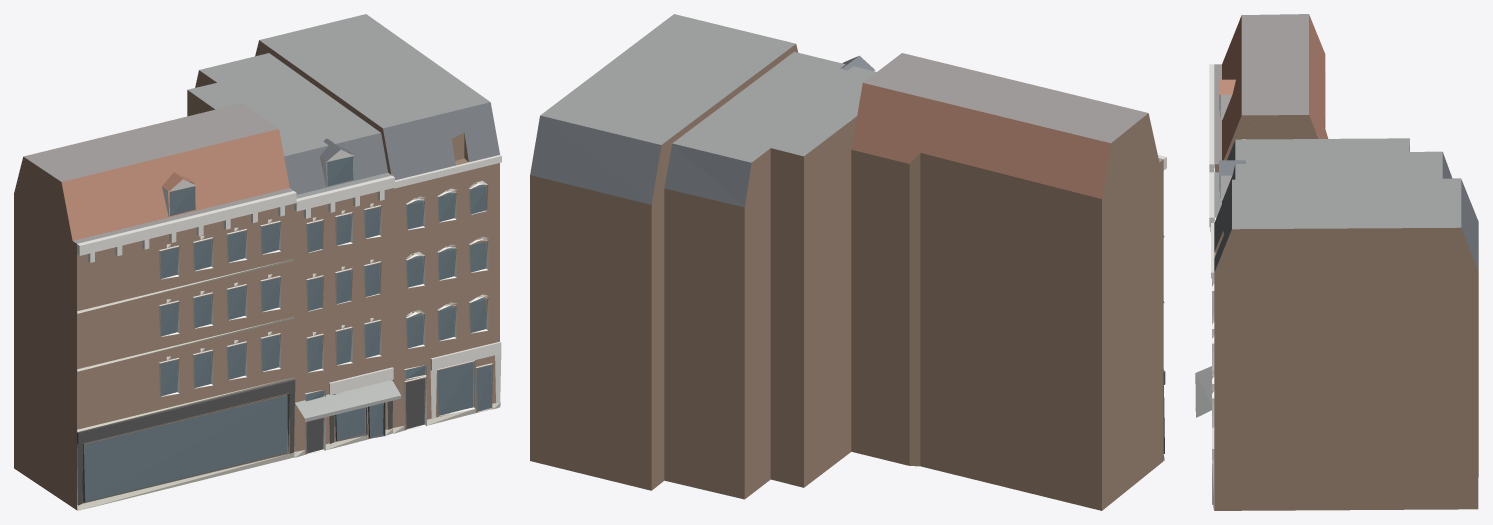
Rendered from chunk-face-bilder-133467-159649.lod2.glb.
3 views of the same model, side by side, from view 1: azimuth 30°, elevation 25°; view 2: azimuth 150°, elevation 25°; view 3: azimuth 270°, elevation 25° (orthographic). The views are drawn at different scales.
Visible parts, largest first — view 1: lod2; view 2: lod2; view 3: lod2.
Boxes of the visible parts, <box> form: lod2: <box>14,14,501,510</box>; lod2: <box>530,14,1166,510</box>; lod2: <box>1195,14,1478,510</box>.
Size of the model in its own units: 24.42 by 17.37 by 14.84.
